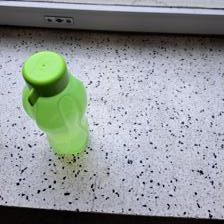bottle: (21, 49, 91, 157)
